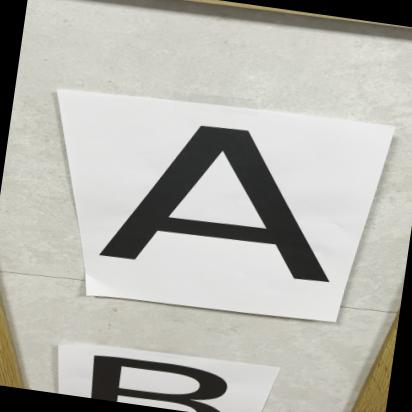seat: (75, 100, 347, 300)
